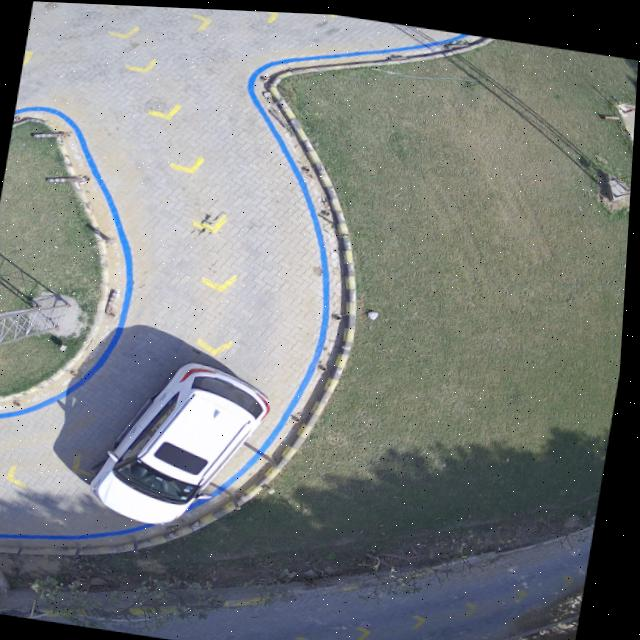car: (95, 360, 274, 522)
